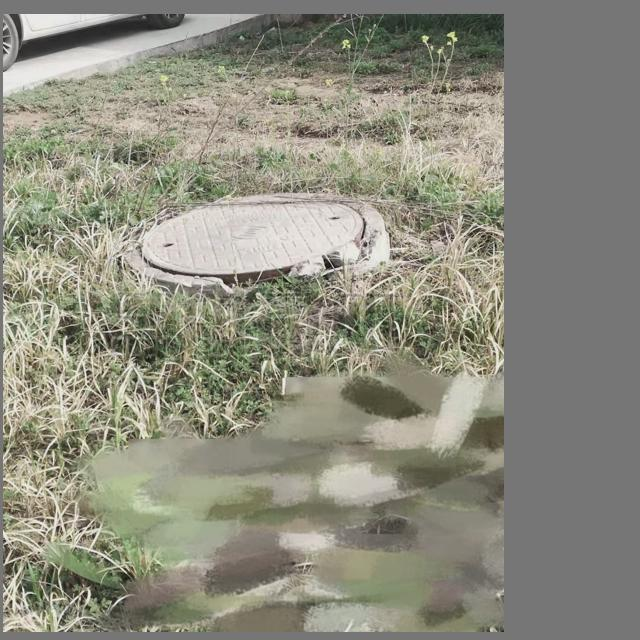circle: (106, 186, 388, 298)
